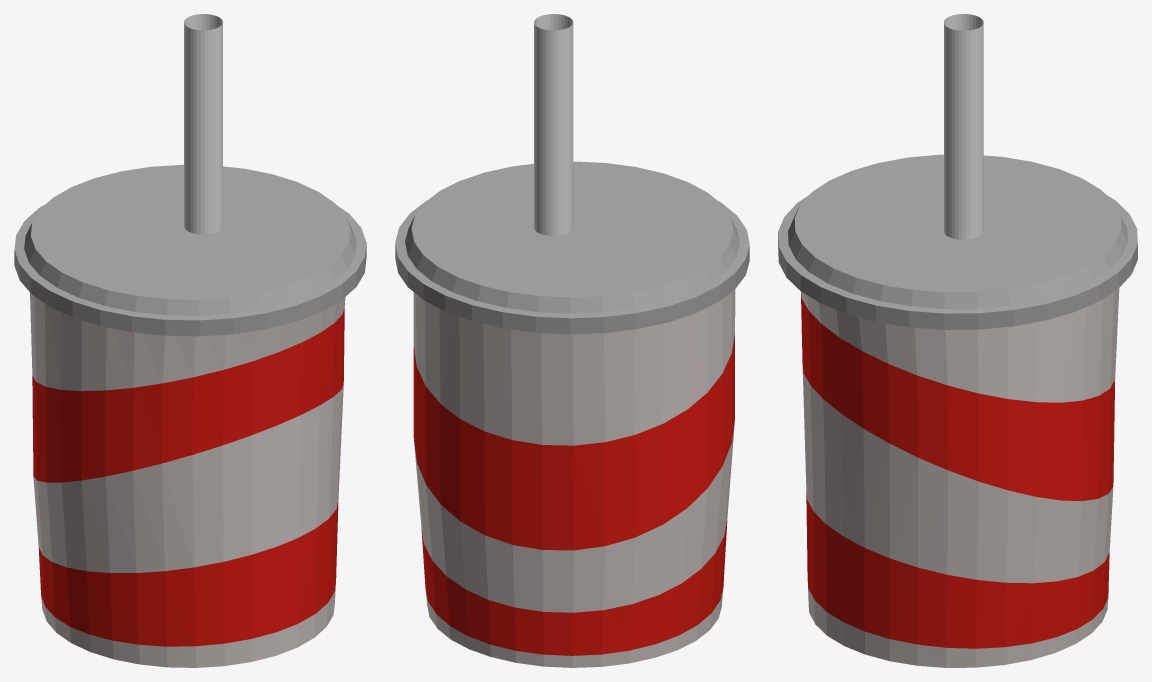
Rendered from ENVIRONMENT_OFFICE_BOTOL.fbx.
The picture shows the model from 3 angles, left to right: view 1: azimuth 30°, elevation 25°; view 2: azimuth 150°, elevation 25°; view 3: azimuth 270°, elevation 25°; orthographic projection. The views are drawn at different scales.
Visible parts, largest first — view 1: Cylinder.035; view 2: Cylinder.035; view 3: Cylinder.035.
Boxes of the visible parts, x1,y1,x2,y2 form: Cylinder.035: [14, 14, 366, 667]; Cylinder.035: [395, 14, 749, 667]; Cylinder.035: [778, 14, 1137, 667].
Bounding box in the file's own units: 32.3 × 58.57 × 32.3.
